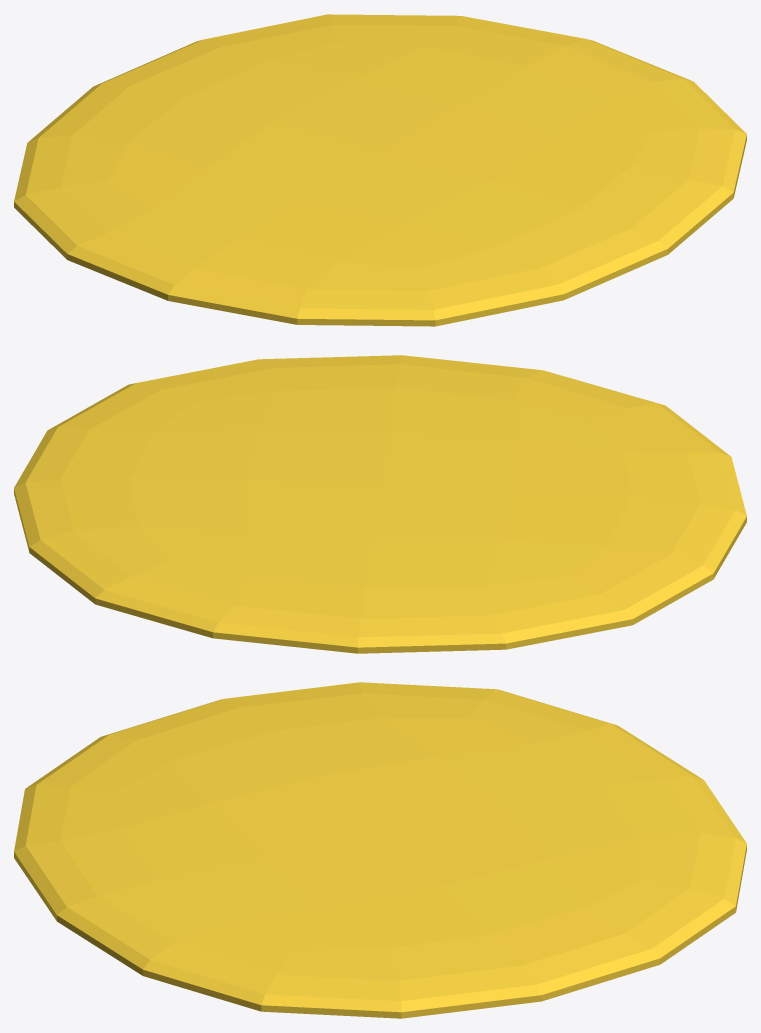
Rendered from Livingroom2_Rug.fbx.
3 renders of one model, top to bottom at view 1: azimuth 30°, elevation 25°; view 2: azimuth 150°, elevation 25°; view 3: azimuth 270°, elevation 25°, orthographic. The views are drawn at different scales.
Visible parts, largest first — view 1: Livingroom2_Rug; view 2: Livingroom2_Rug; view 3: Livingroom2_Rug.
Boxes of the visible parts, box(x1,y1,x2,y2) form: Livingroom2_Rug: box(14, 14, 746, 326); Livingroom2_Rug: box(14, 355, 746, 653); Livingroom2_Rug: box(14, 682, 746, 1018).
Size of the model in its own units: 340 by 11.58 by 320.
